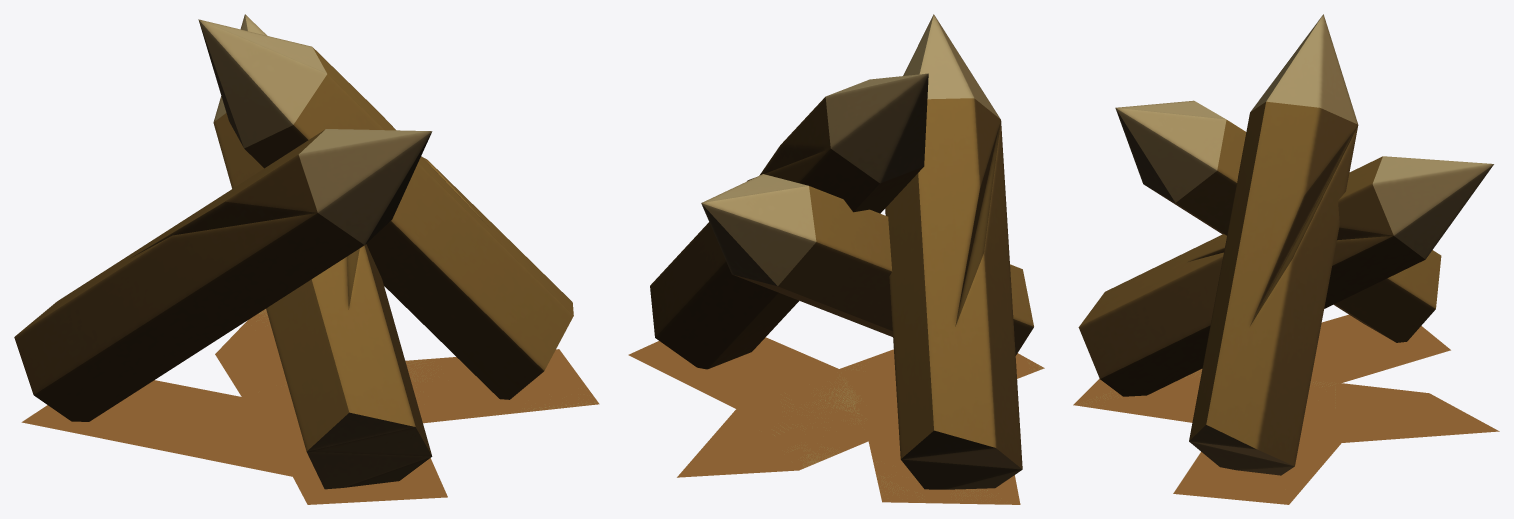
Rendered from juma.FBX.
3 renders of one model, left to right at view 1: azimuth 30°, elevation 25°; view 2: azimuth 150°, elevation 25°; view 3: azimuth 270°, elevation 25°, orthographic. The views are drawn at different scales.
Parts seen in each view (by area): view 1: juma, earth_shadow_juma; view 2: juma, earth_shadow_juma; view 3: juma, earth_shadow_juma.
Boxes of the visible parts, <box> form: juma: <box>14,14,573,489</box>; earth_shadow_juma: <box>21,309,599,504</box>; juma: <box>650,14,1033,489</box>; earth_shadow_juma: <box>628,337,1044,504</box>; juma: <box>1078,14,1493,475</box>; earth_shadow_juma: <box>1073,314,1499,504</box>.
Size of the model in its own units: 80.4 by 65.65 by 71.44.
